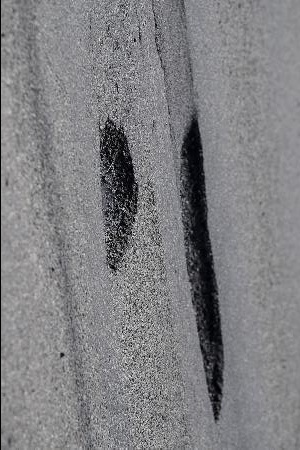pothole: (176, 113, 225, 425), (95, 117, 139, 275)
